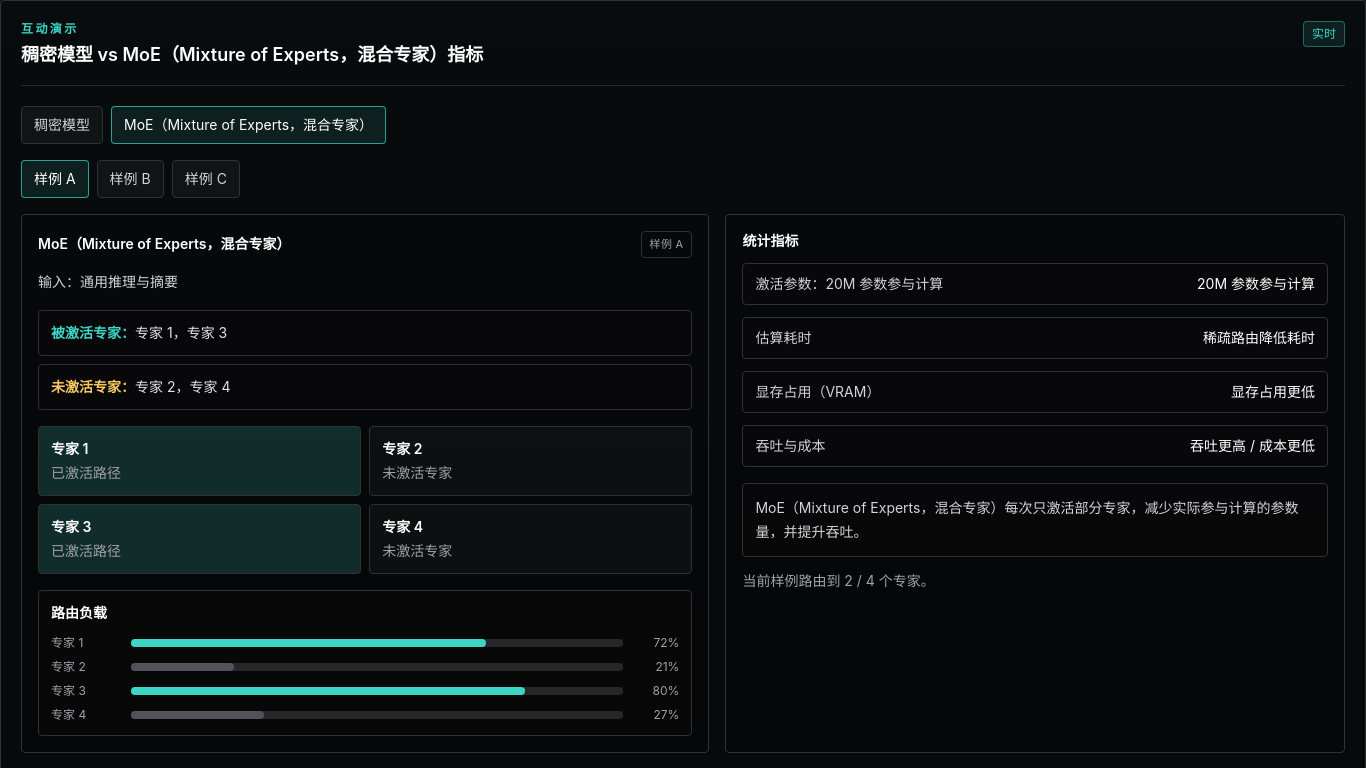
Test: MoeMetricsDemo › shows activated and inactive experts for a routed MoE sample
Click the button "MoE（Mixture of Experts，混合专家）" at (248, 125), box [111, 106, 386, 144]
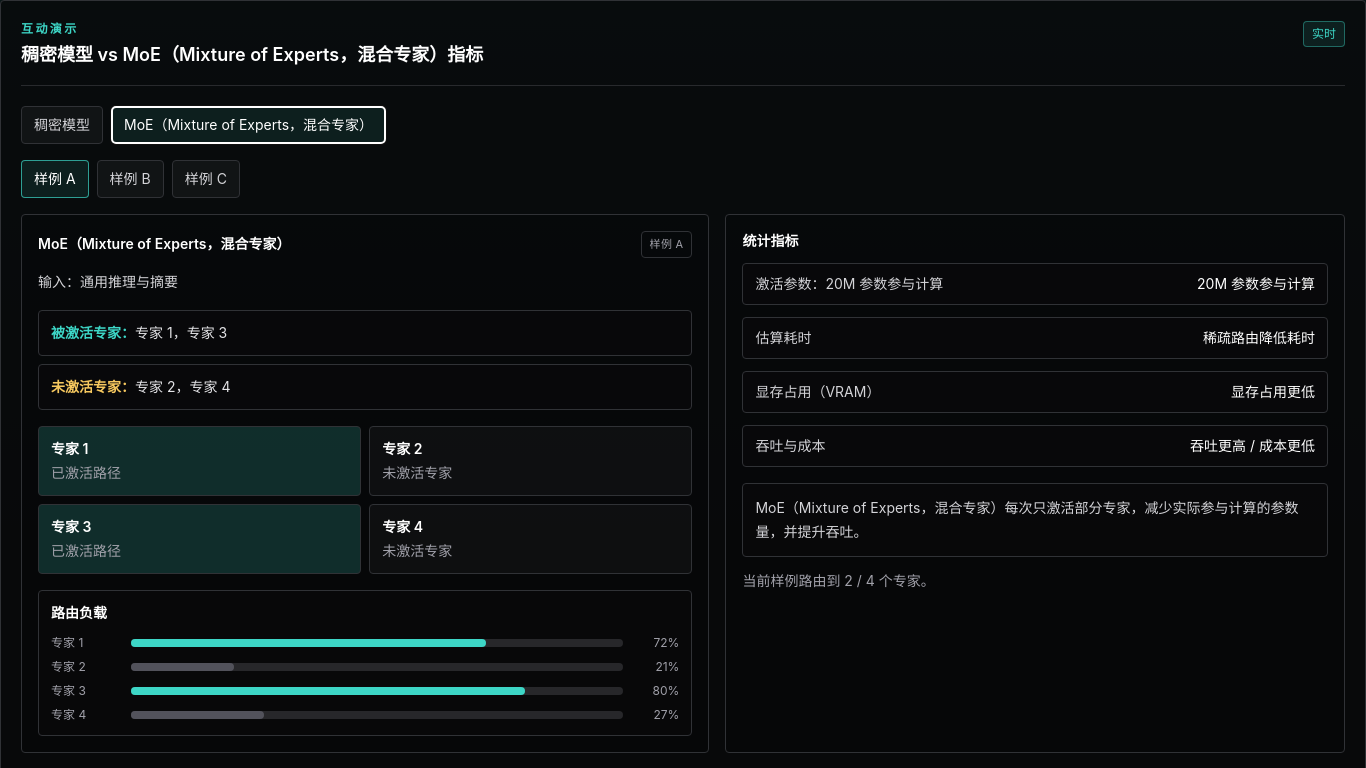
Click the button "样例 B" at (130, 179), box [97, 160, 164, 198]
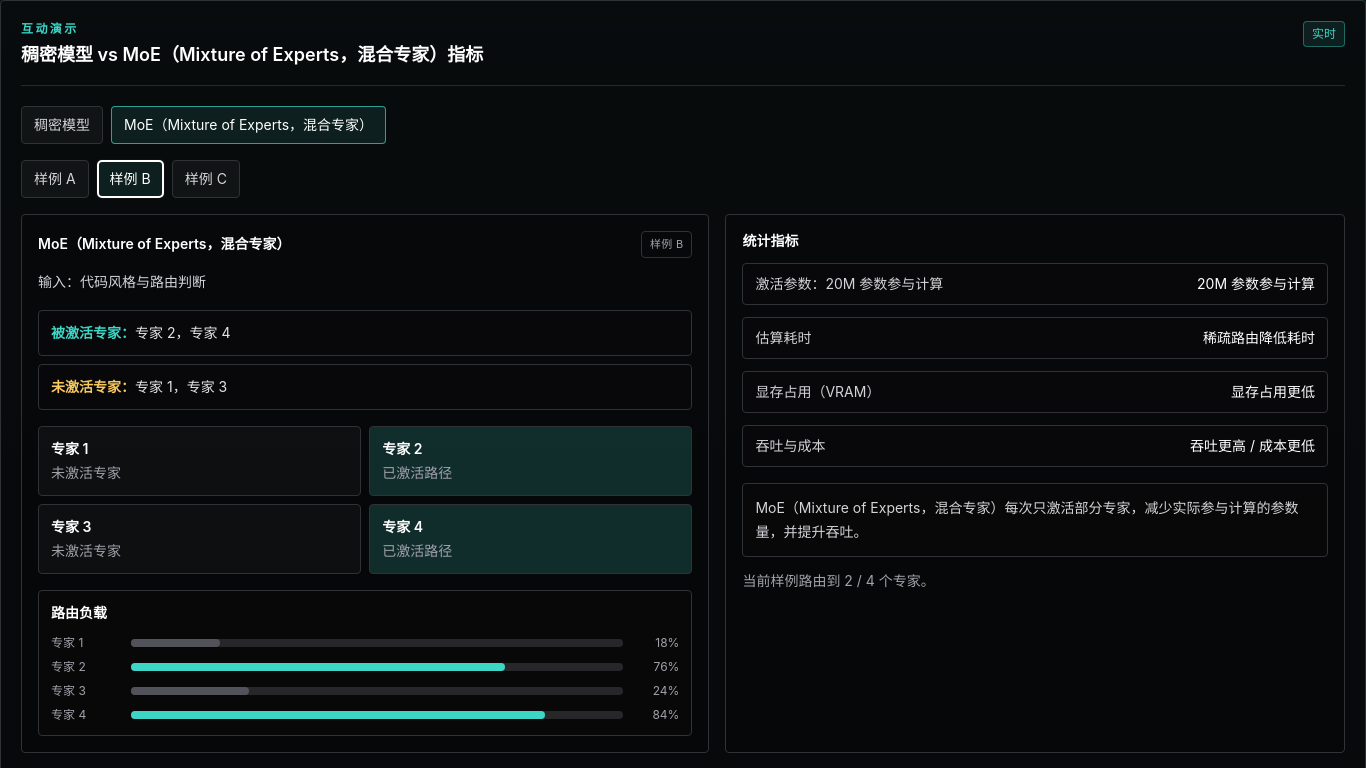
Expected: the text "被激活专家：" is shown, [51, 324, 135, 340]
Expected: the text "被激活专家：专家 2，专家 4" is shown, [38, 310, 692, 356]
